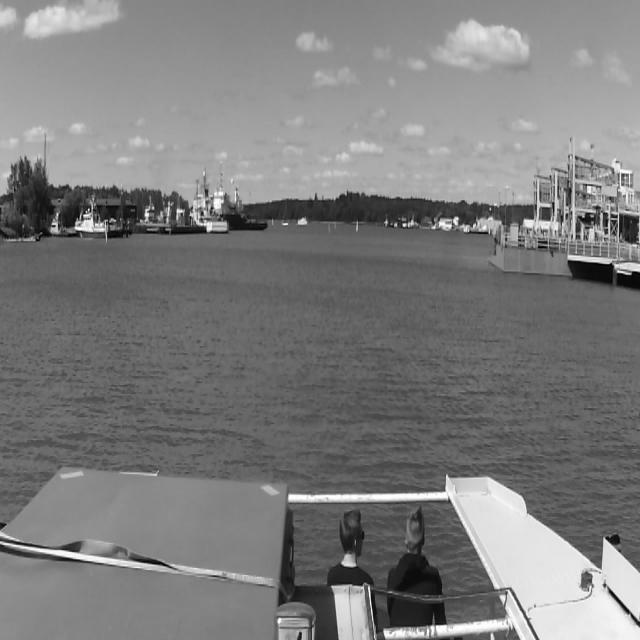buoy: (326, 221, 330, 235), (355, 219, 359, 233), (333, 221, 337, 231)
ship: (212, 172, 264, 230), (190, 165, 222, 239)
